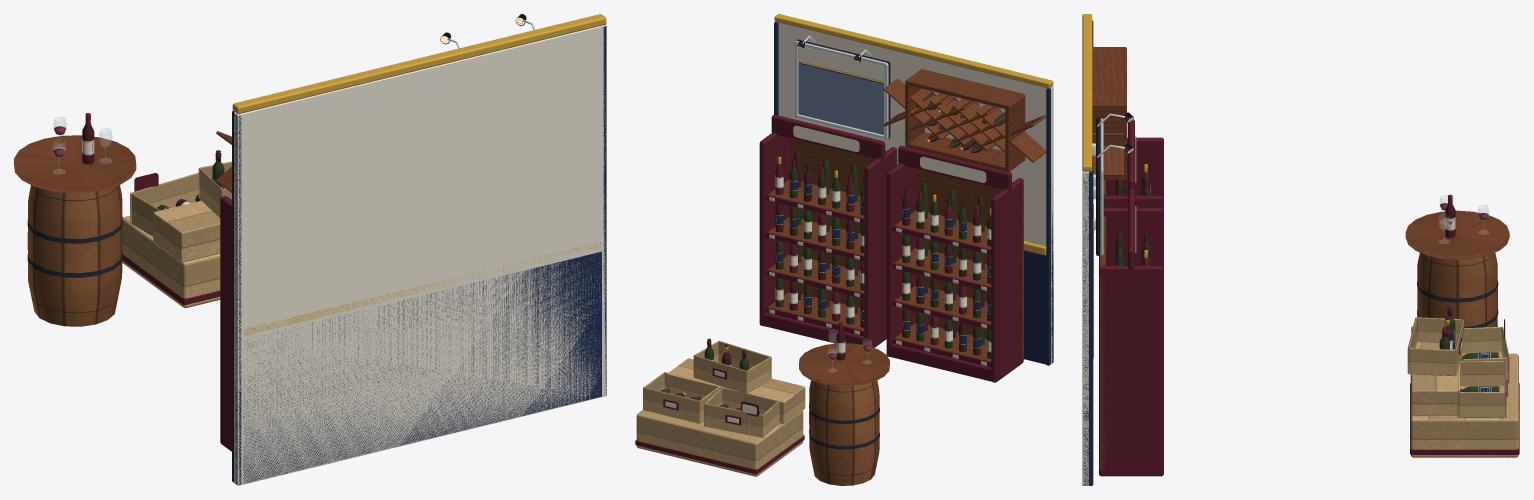
Rendered from sector-adega_T1.fbx.
The picture shows the model from 3 angles, left to right: view 1: azimuth 30°, elevation 25°; view 2: azimuth 150°, elevation 25°; view 3: azimuth 270°, elevation 25°; orthographic projection. The views are drawn at different scales.
Parts seen in each view (by area): view 1: Back Wall, Body, Wall Dressing; view 2: Body, Wall Dressing, Back Wall; view 3: Body, Back Wall, Wall Dressing.
Boxes of the visible parts, x1,y1,x2,y2 form: Back Wall: (232, 14, 606, 485); Body: (14, 113, 231, 451); Wall Dressing: (216, 14, 535, 192); Body: (635, 115, 1023, 485); Wall Dressing: (794, 35, 1046, 171); Back Wall: (774, 14, 1053, 365); Body: (1099, 119, 1519, 476); Back Wall: (1082, 14, 1093, 485); Wall Dressing: (1092, 47, 1133, 255).
Bounding box in the file's own units: 2.5 × 2.48 × 3.03.
